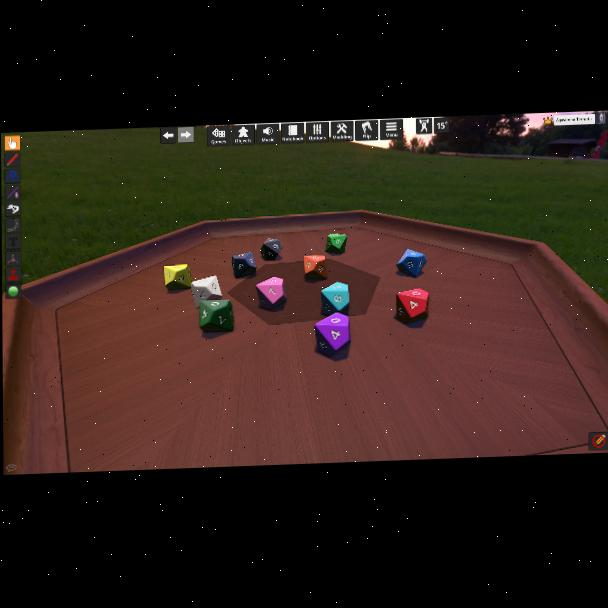d10: (314, 313, 349, 356), (199, 299, 234, 333), (396, 288, 429, 324), (191, 276, 223, 309), (256, 276, 286, 310), (320, 282, 348, 316), (397, 248, 427, 278), (164, 264, 192, 291), (232, 252, 258, 278), (260, 238, 284, 262), (307, 256, 327, 281), (323, 234, 344, 256)
